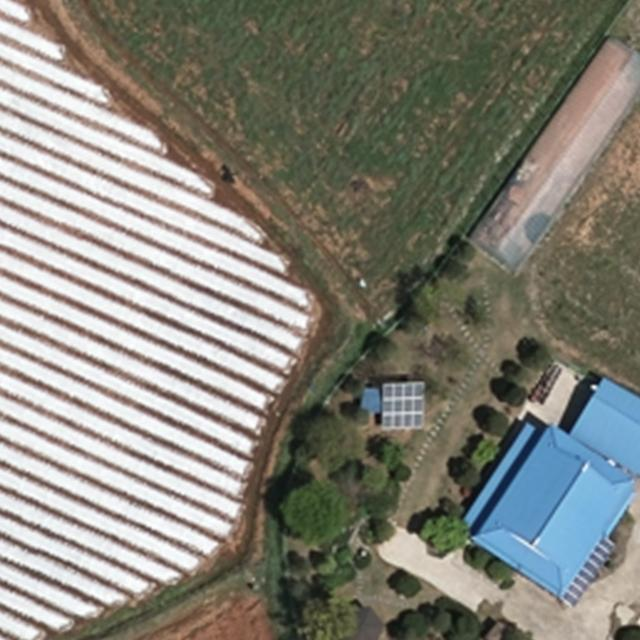panel: (378, 380, 429, 431)
